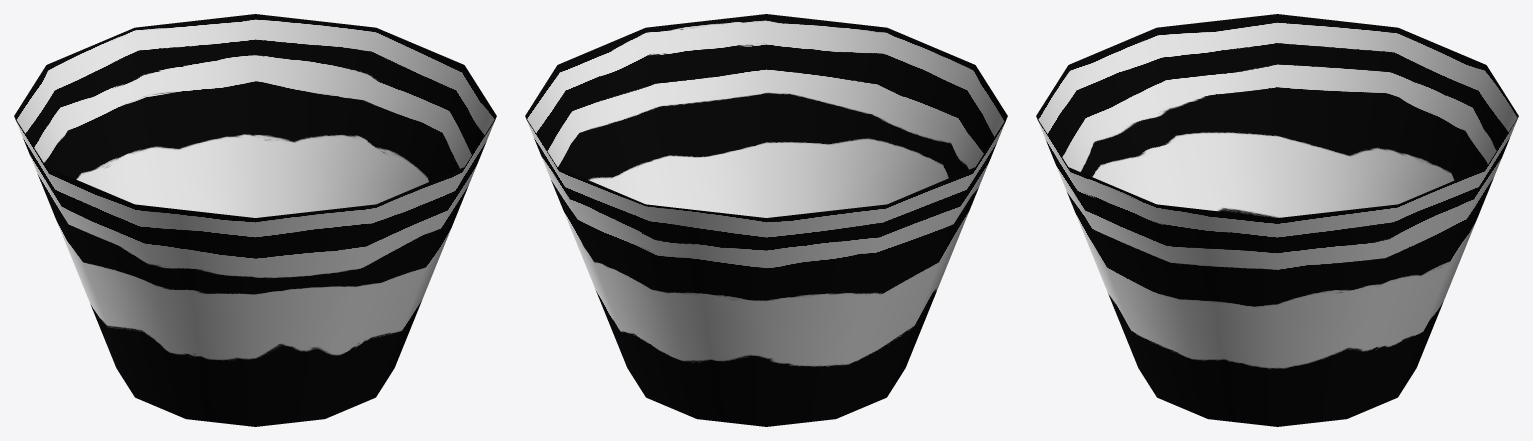
Rendered from SM_PowerUp.fbx.
The picture shows the model from 3 angles, left to right: view 1: azimuth 30°, elevation 25°; view 2: azimuth 150°, elevation 25°; view 3: azimuth 270°, elevation 25°; orthographic projection.
Parts seen in each view (by area): view 1: SM_PowerUp; view 2: SM_PowerUp; view 3: SM_PowerUp.
Part boxes in pixels (box(x1,y1,x2,y2)): SM_PowerUp: box(14, 14, 496, 426); SM_PowerUp: box(525, 14, 1007, 426); SM_PowerUp: box(1036, 14, 1518, 426).
Bounding box in the file's own units: 347 × 200 × 347.
